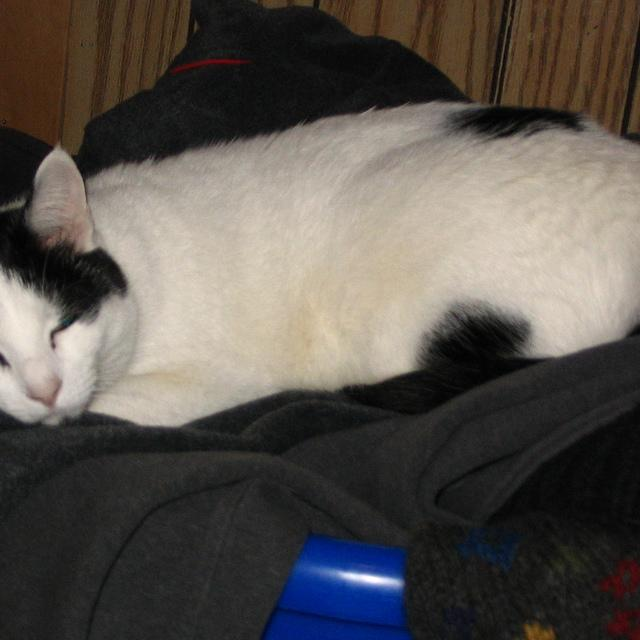animals: (0, 146, 92, 403)
